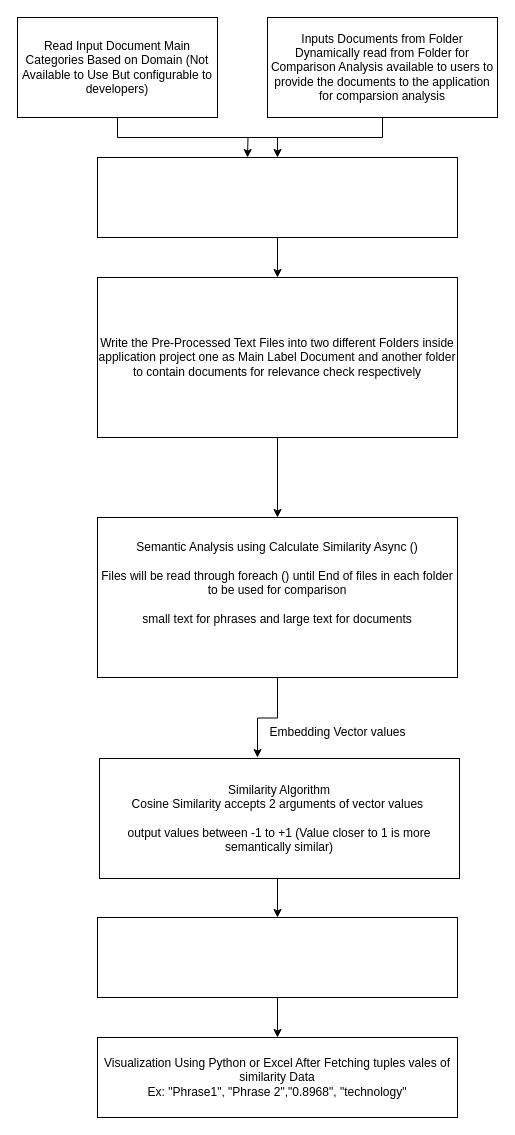
Some shapes in this 515 by 1135 pixel diagram are drawn without their labels. Here are the shapes that lost their labels. From the top down, the centre of each, then its label:
(x=277, y=197): Read and Pre-Processing to Remove Articles and Tokens and Stemming
(x=277, y=957): Write Output in CSV File Using CSV Util
